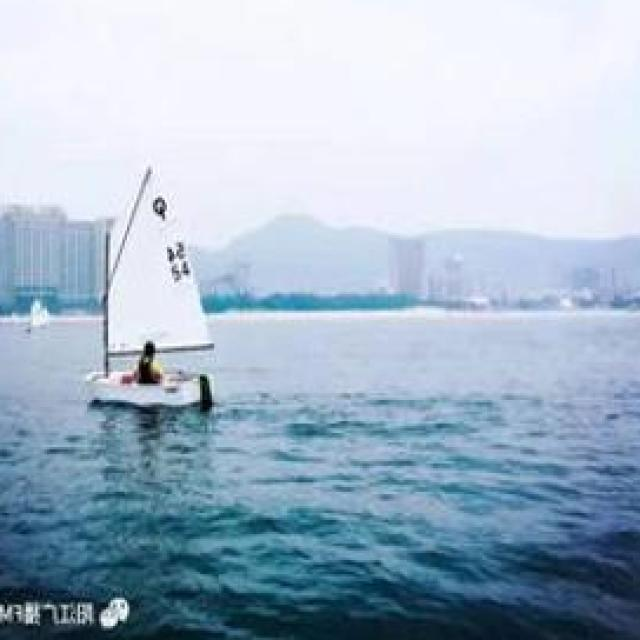sailboat: (70, 156, 226, 431)
